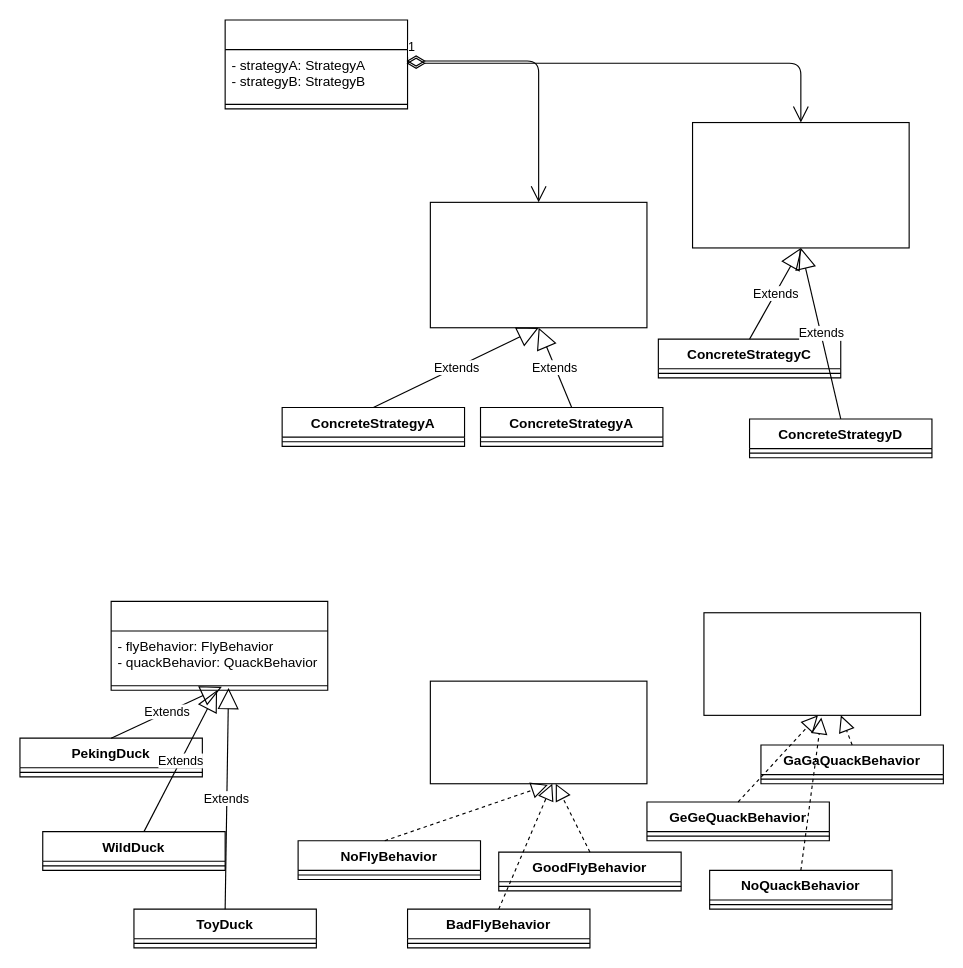
This 963x968 diagram has some shape labels left out. Here are the shapes that lost their labels. From the top down, the box of each, then its label:
(224, 19, 408, 109): Context
(691, 121, 909, 248): <<Interface>> StrategyB + method1(Type): Type + method2(Type, Type): Type
(429, 201, 647, 328): <<Interface>> StrategyA + method1(Type): Type + method2(Type, Type): Type
(110, 600, 328, 690): Duck
(703, 612, 921, 715): <<Interface>> QuackBehavior + quack(): void
(429, 680, 647, 784): <<Interface>> FlyBehavior + fly(): void
